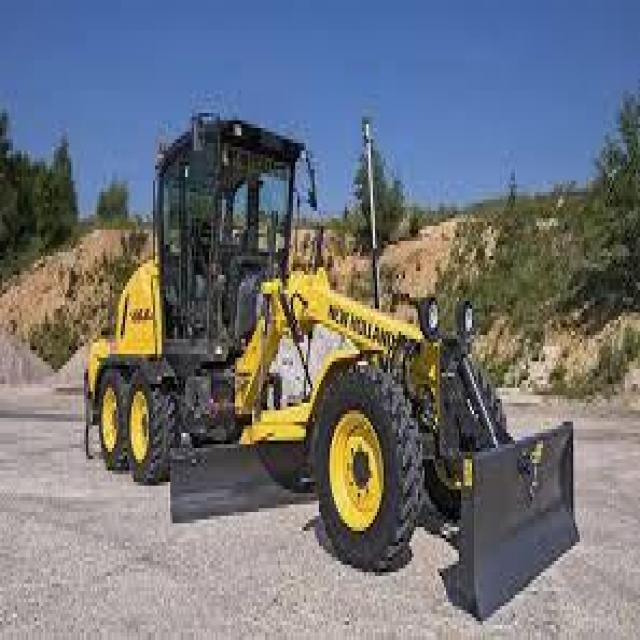Grader: (58, 102, 586, 610)
